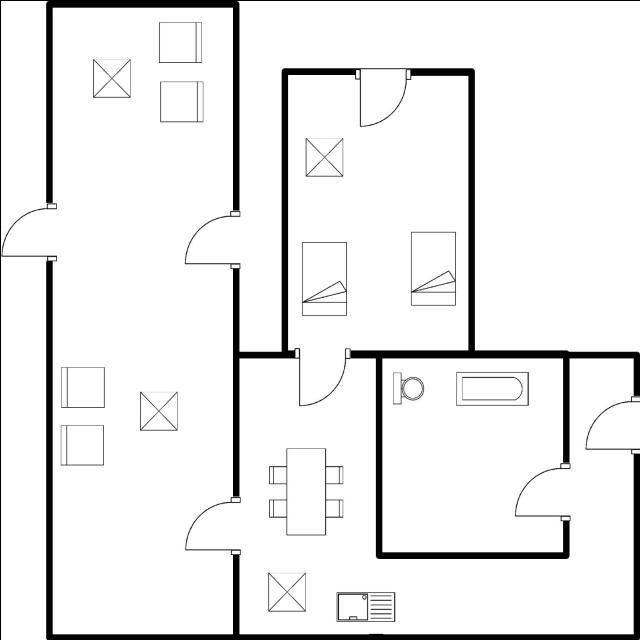bed: (405, 225, 461, 311), (298, 236, 352, 322)
coffee_table: (86, 53, 134, 102), (263, 568, 311, 616), (136, 386, 183, 434), (300, 134, 348, 180)
dining_table: (264, 442, 348, 540)
large_sink: (388, 364, 431, 410)
sink: (332, 584, 398, 626)
small_sofa: (56, 362, 110, 412), (56, 418, 108, 469), (154, 76, 207, 126), (154, 17, 206, 65)
tub: (452, 365, 532, 411)
